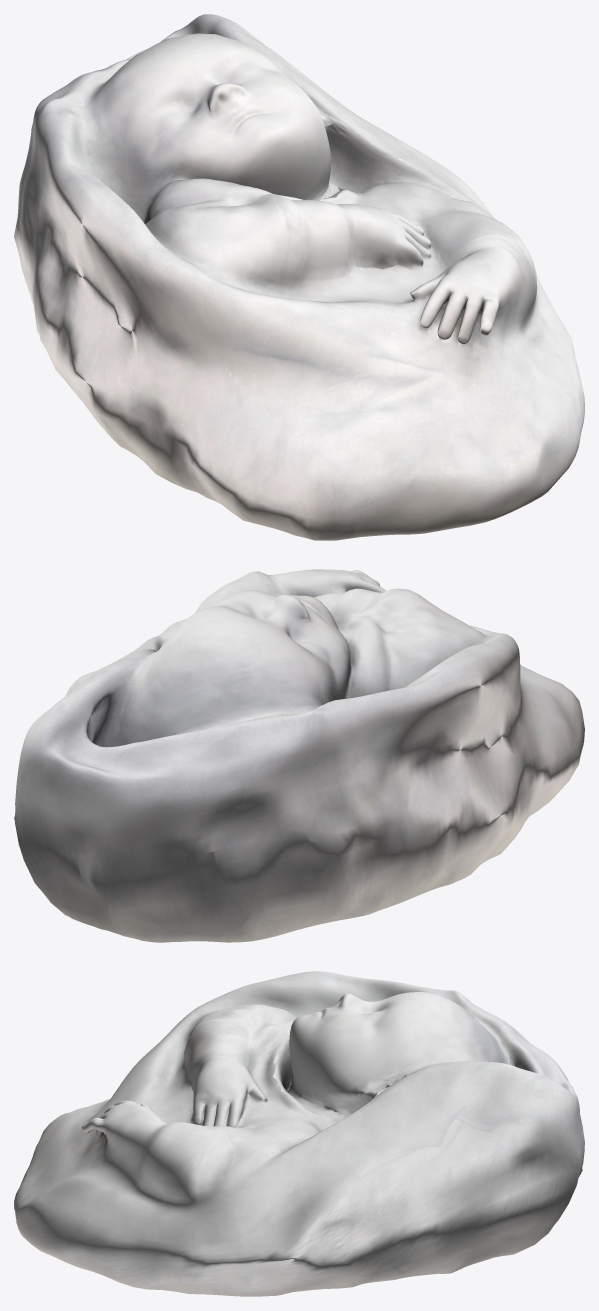
File: unuvtytreke.glb
The picture shows the model from 3 angles, top to bottom: view 1: azimuth 30°, elevation 25°; view 2: azimuth 150°, elevation 25°; view 3: azimuth 270°, elevation 25°; orthographic projection. The views are drawn at different scales.
Visible parts, largest first — view 1: model; view 2: model; view 3: model.
Part boxes in pixels (x1,y1,x2,y2): model: [14, 14, 584, 540]; model: [14, 569, 584, 942]; model: [14, 971, 584, 1296].
Size of the model in its own units: 3.14 by 2.05 by 4.68.
Materials: 1 (1 with a texture image).
